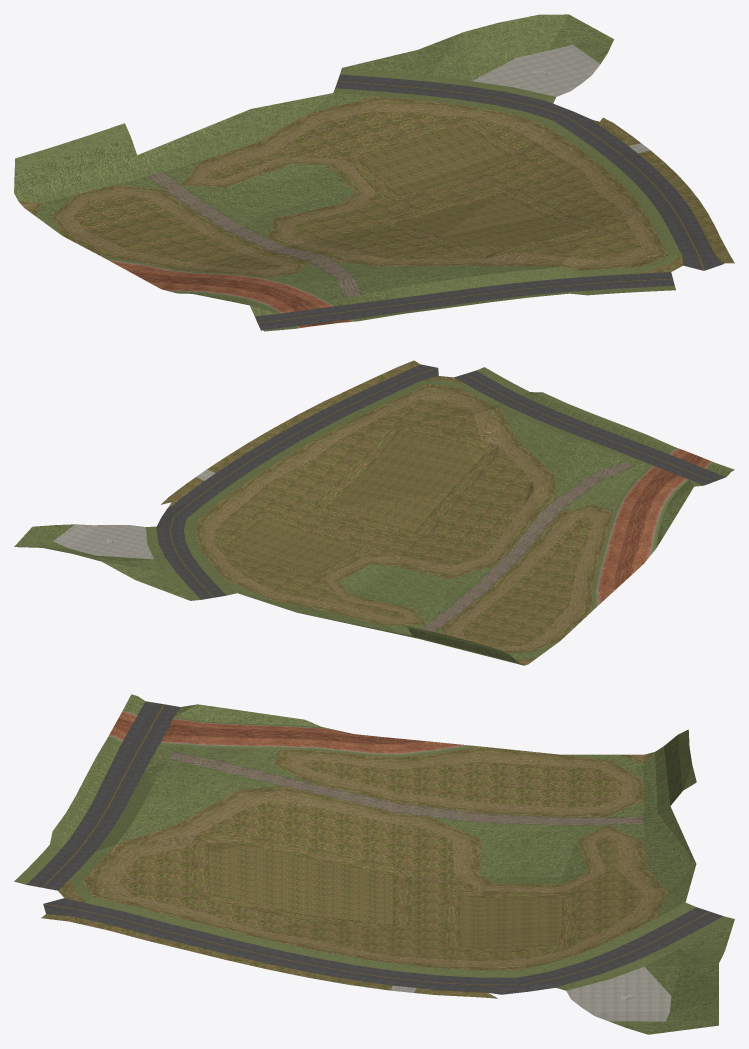
Rendered from se_bit_12.obj.
3 renders of one model, top to bottom at view 1: azimuth 30°, elevation 25°; view 2: azimuth 150°, elevation 25°; view 3: azimuth 270°, elevation 25°, orthographic. The views are drawn at different scales.
Parts seen in each view (by area): view 1: se_bit_12; view 2: se_bit_12; view 3: se_bit_12.
Boxes of the visible parts, x1,y1,x2,y2 form: se_bit_12: [14, 14, 734, 331]; se_bit_12: [14, 360, 734, 665]; se_bit_12: [14, 694, 734, 1034].
Bounding box in the file's own units: 252 × 22.57 × 252.
16 materials, 16 textured.
